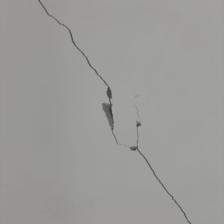Medium: (44, 12, 182, 203)
